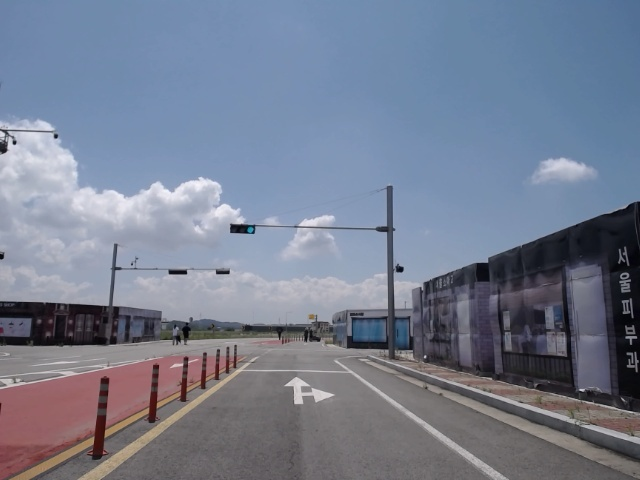green_3: (230, 223, 256, 232)
